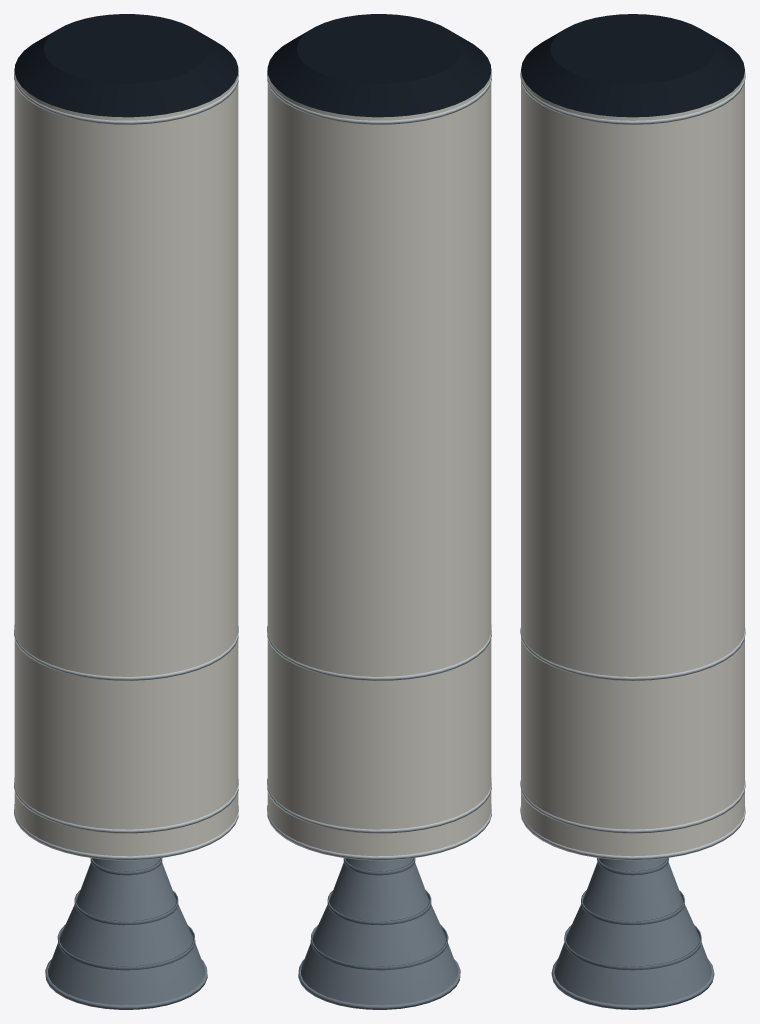
File: falcon9_stage_2.glb
The picture shows the model from 3 angles, left to right: view 1: azimuth 30°, elevation 25°; view 2: azimuth 150°, elevation 25°; view 3: azimuth 270°, elevation 25°; orthographic projection.
Visible parts, largest first — view 1: falcon9_stage_2.mesh_Warm_white_enamel, falcon9_stage_2.merlin_vac.bell.mesh_Machined_steel, falcon9_stage_2.payload_adapter.mesh_Shadowed_interior, falcon9_stage_2.mesh_Satin_aluminum; view 2: falcon9_stage_2.mesh_Warm_white_enamel, falcon9_stage_2.merlin_vac.bell.mesh_Machined_steel, falcon9_stage_2.payload_adapter.mesh_Shadowed_interior, falcon9_stage_2.mesh_Satin_aluminum; view 3: falcon9_stage_2.mesh_Warm_white_enamel, falcon9_stage_2.merlin_vac.bell.mesh_Machined_steel, falcon9_stage_2.payload_adapter.mesh_Shadowed_interior, falcon9_stage_2.mesh_Satin_aluminum.
Part boxes in pixels (x1,y1,x2,y2): falcon9_stage_2.mesh_Warm_white_enamel: (14, 71, 238, 860); falcon9_stage_2.merlin_vac.bell.mesh_Machined_steel: (45, 858, 207, 1009); falcon9_stage_2.payload_adapter.mesh_Shadowed_interior: (14, 14, 238, 117); falcon9_stage_2.mesh_Satin_aluminum: (14, 68, 238, 859); falcon9_stage_2.mesh_Warm_white_enamel: (267, 71, 491, 860); falcon9_stage_2.merlin_vac.bell.mesh_Machined_steel: (298, 858, 460, 1009); falcon9_stage_2.payload_adapter.mesh_Shadowed_interior: (267, 14, 491, 117); falcon9_stage_2.mesh_Satin_aluminum: (267, 68, 491, 859); falcon9_stage_2.mesh_Warm_white_enamel: (521, 71, 744, 860); falcon9_stage_2.merlin_vac.bell.mesh_Machined_steel: (551, 858, 714, 1009); falcon9_stage_2.payload_adapter.mesh_Shadowed_interior: (521, 14, 744, 117); falcon9_stage_2.mesh_Satin_aluminum: (520, 71, 745, 859).
Size of the model in its own units: 3.68 by 16.7 by 3.68.
